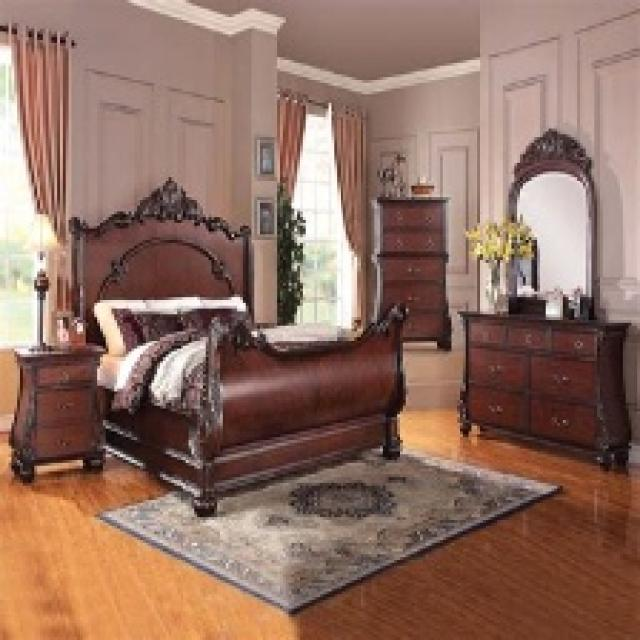Bed: (66, 175, 408, 514)
